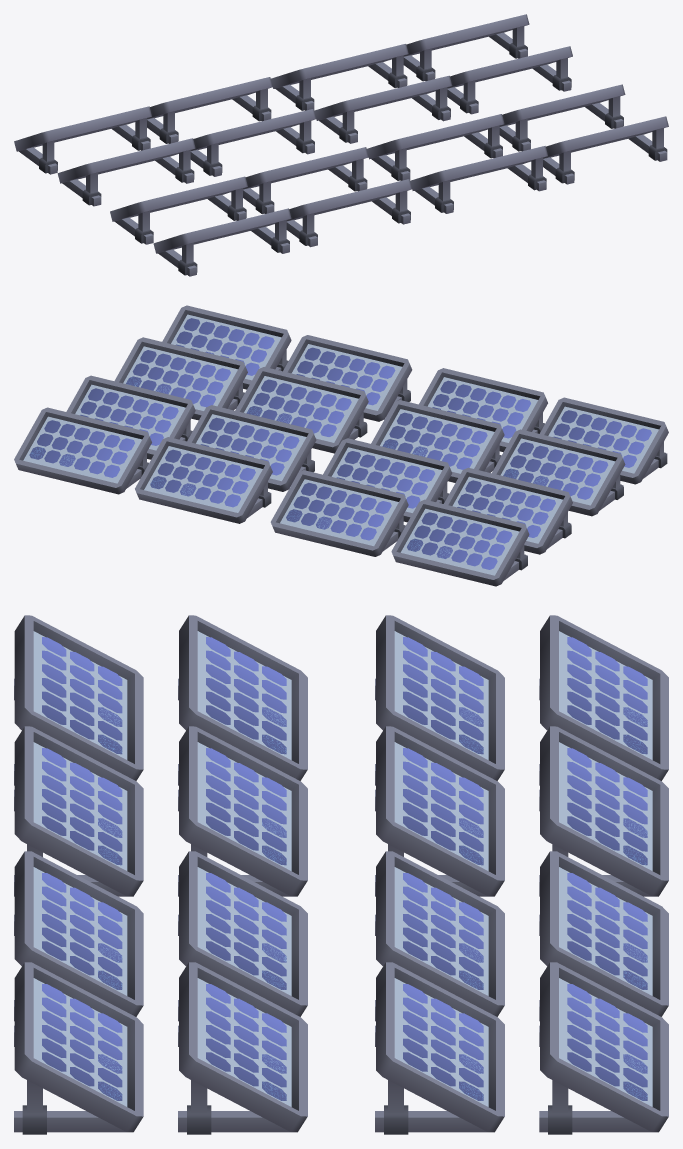
File: solar_field.glb
3 views of the same model, one above another, from view 1: azimuth 30°, elevation 25°; view 2: azimuth 150°, elevation 25°; view 3: azimuth 270°, elevation 25° (orthographic). The views are drawn at different scales.
Parts seen in each view (by area): view 1: solar_field; view 2: solar_field; view 3: solar_field.
Part boxes in pixels (left/top/right/bottom): solar_field: left=14, top=14, right=668, bottom=276; solar_field: left=14, top=305, right=668, bottom=586; solar_field: left=14, top=615, right=668, bottom=1134.
Size of the model in its own units: 32.13 by 2.62 by 19.95.
8 materials, 8 textured.
